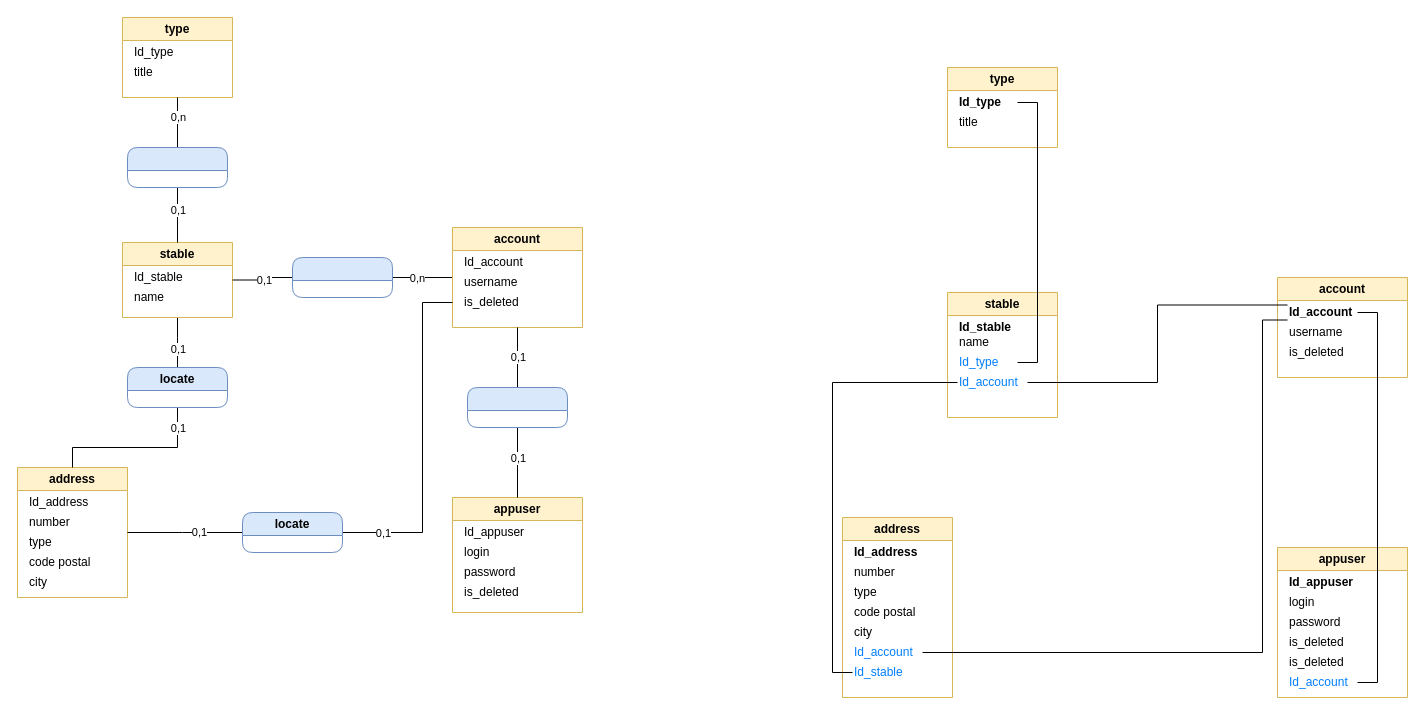
Some shapes in this 1425 by 715 pixel diagram are drawn without their labels. Here are the shapes that lost their labels. From the top down, the box of each, then its label:
(126, 146, 228, 188): have
(292, 256, 392, 298): own
(466, 386, 568, 428): connect
